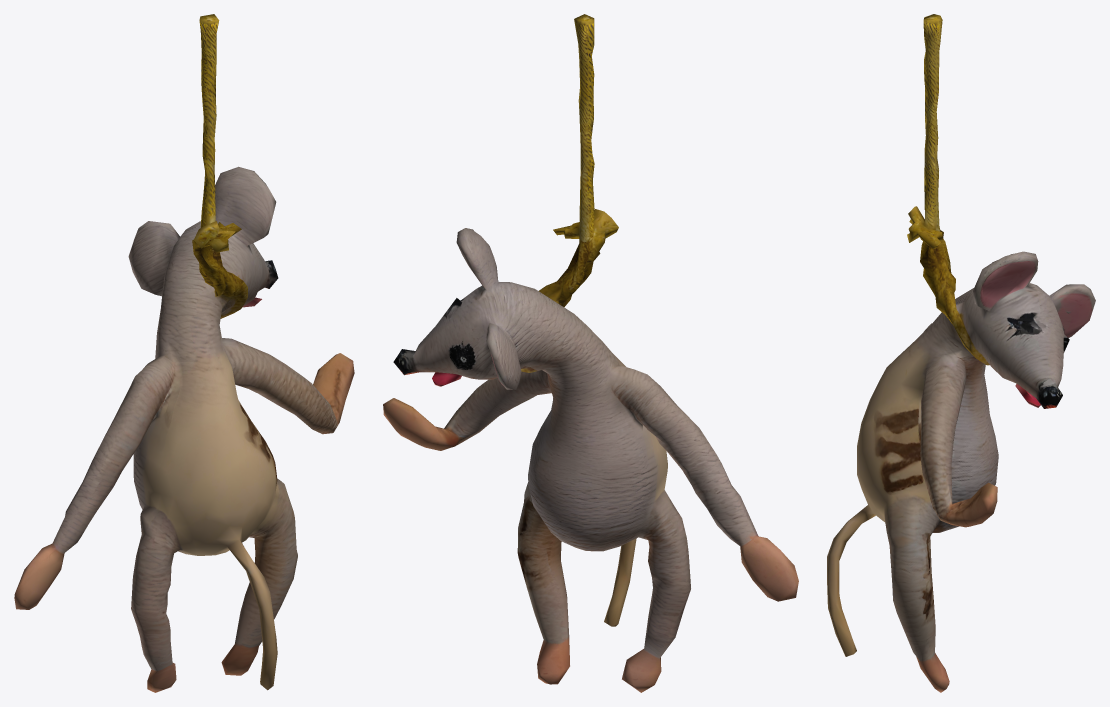
File: tripo_convert_b731bac2-bf98-4409-8978-e5a6ee7f5d0a.fbx
3 views of the same model, side by side, from view 1: azimuth 30°, elevation 25°; view 2: azimuth 150°, elevation 25°; view 3: azimuth 270°, elevation 25° (orthographic).
Visible parts, largest first — view 1: tripo_node_b731bac2; view 2: tripo_node_b731bac2; view 3: tripo_node_b731bac2.
Boxes of the visible parts, x1,y1,x2,y2 form: tripo_node_b731bac2: [14, 14, 354, 692]; tripo_node_b731bac2: [383, 14, 798, 692]; tripo_node_b731bac2: [827, 14, 1095, 692].
Size of the model in its own units: 0.5902 by 1 by 0.3709.
1 material, 1 textured.
